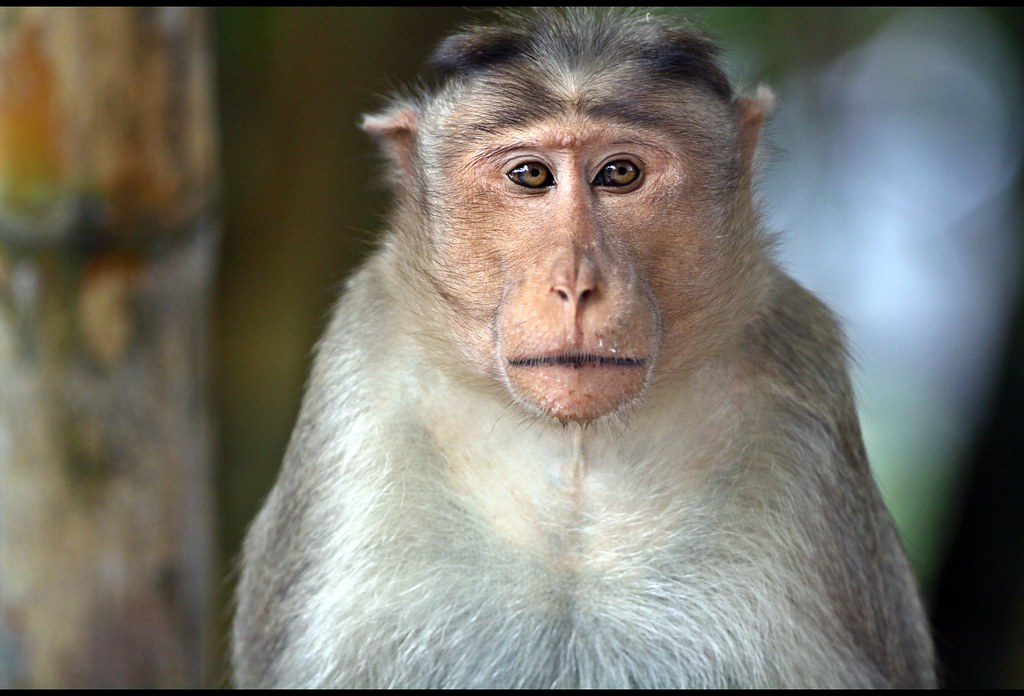monkey: (212, 14, 950, 696)
